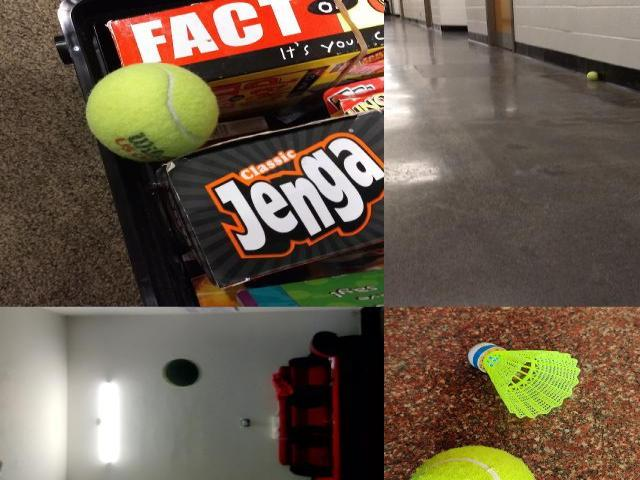tennis-ball: (85, 61, 222, 164), (406, 445, 538, 479), (162, 359, 200, 387), (586, 70, 598, 80)
